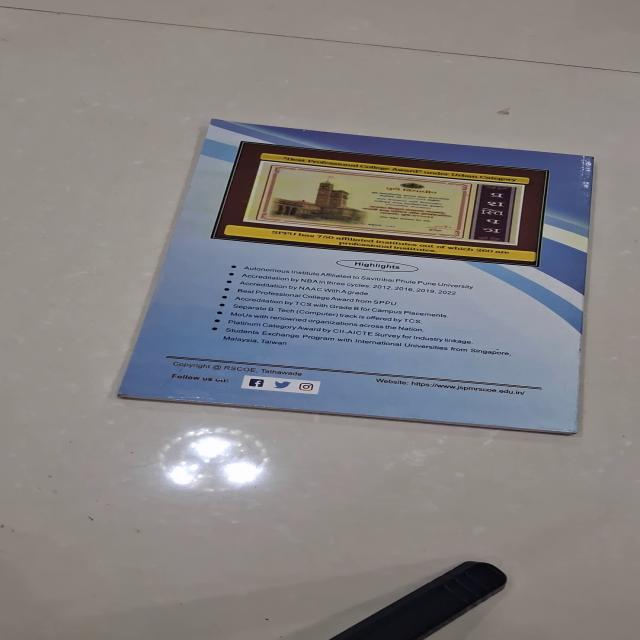paper: (114, 118, 595, 434)
